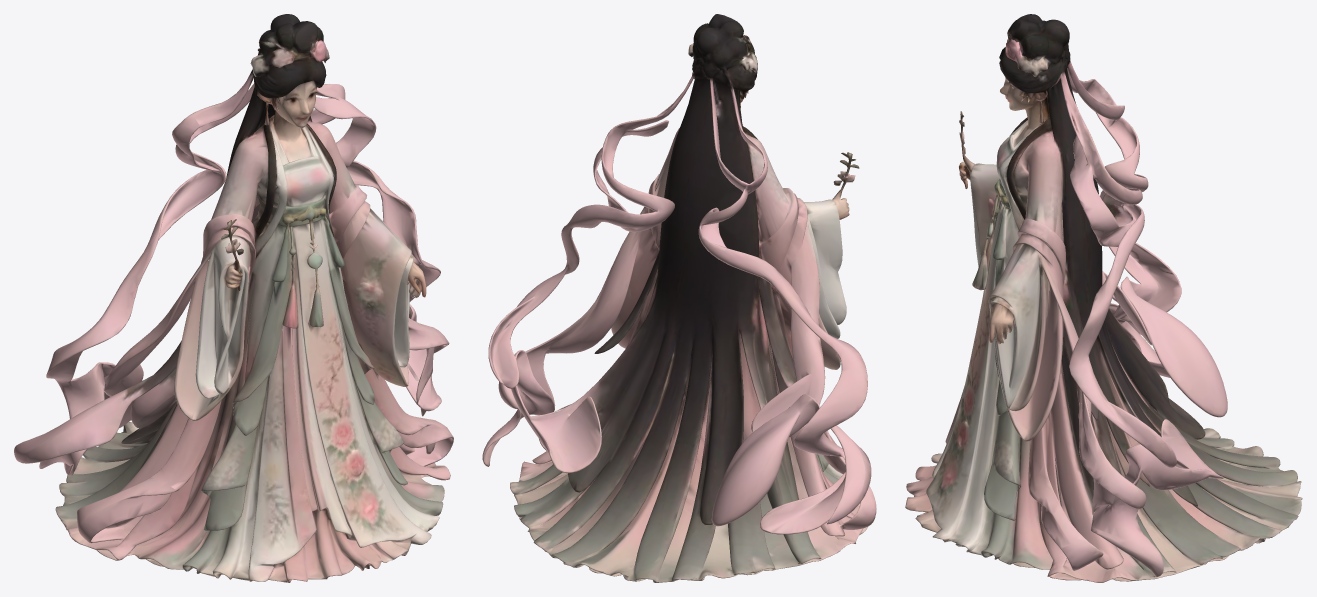
The model's file is baihua.glb.
3 renders of one model, left to right at view 1: azimuth 30°, elevation 25°; view 2: azimuth 150°, elevation 25°; view 3: azimuth 270°, elevation 25°, orthographic. The views are drawn at different scales.
Visible parts, largest first — view 1: node_0; view 2: node_0; view 3: node_0.
Boxes of the visible parts, x1,y1,x2,y2 form: node_0: [14, 14, 453, 582]; node_0: [482, 14, 876, 582]; node_0: [905, 14, 1302, 582].
Size of the model in its own units: 0.8024 by 0.9484 by 0.7042.
1 material, 1 textured.
